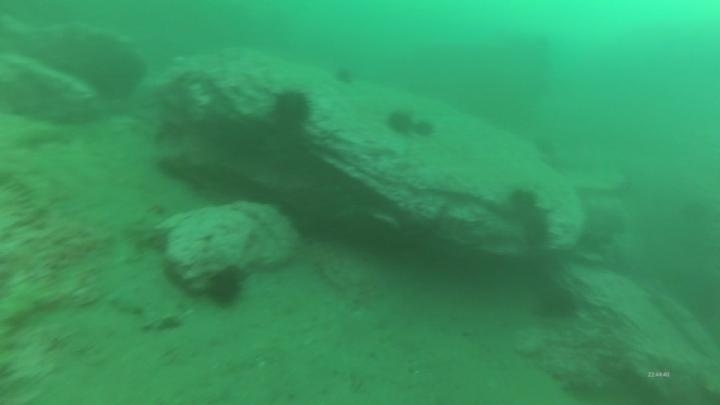echinus: (203, 264, 248, 311), (531, 282, 579, 323), (270, 87, 314, 130), (387, 109, 418, 137), (510, 186, 541, 211), (332, 64, 357, 87), (522, 224, 547, 247), (414, 118, 438, 140)
